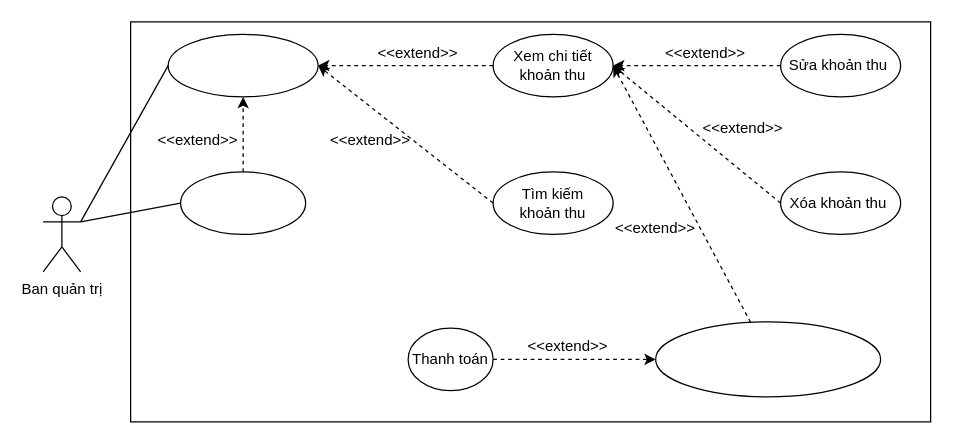
This 953x444 diagram has some shape labels left out. Each missing label, with the box of its shape:
Thêm khoản thu: (179, 171, 306, 234)
Xem chi tiết khoản thu theo hộ: (654, 321, 881, 397)
Xem danh sách khoản thu: (167, 33, 318, 97)
